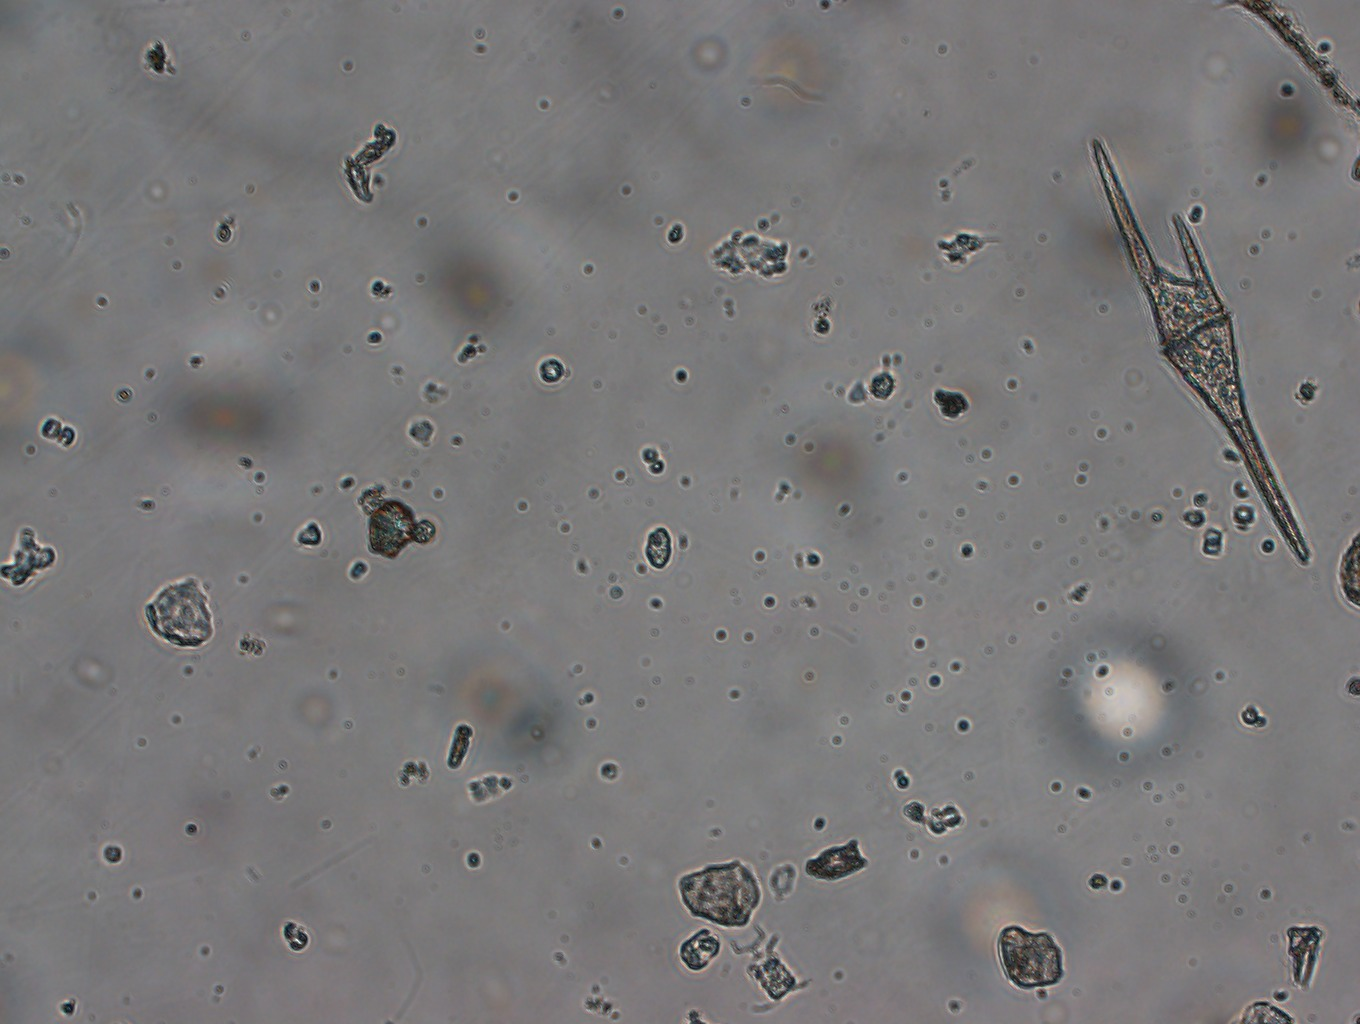ceratium furca: (1068, 124, 1325, 574)
